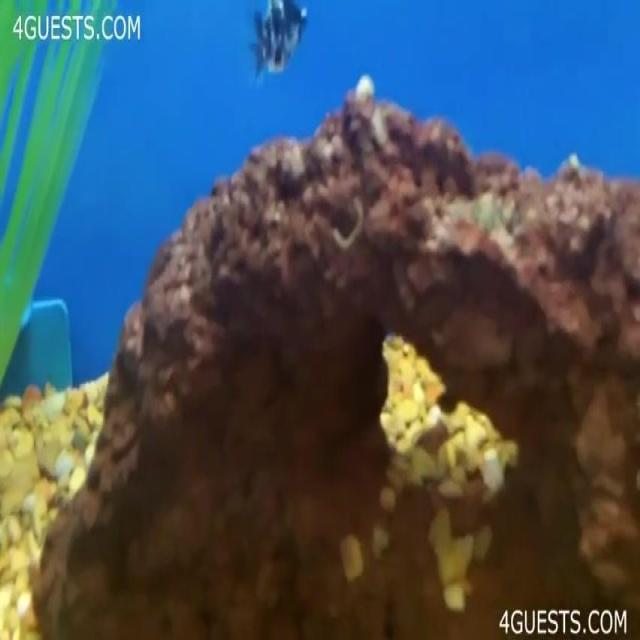PlatyFish: (250, 0, 308, 100)
